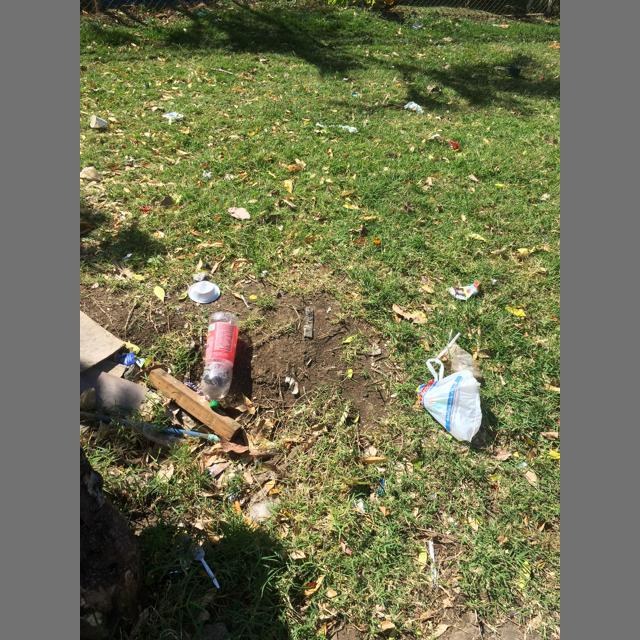litter: (416, 358, 482, 442), (200, 312, 240, 408), (451, 346, 482, 380), (195, 546, 220, 588), (250, 494, 281, 523), (188, 281, 220, 303), (436, 332, 461, 358), (447, 282, 480, 300), (184, 381, 209, 402), (206, 458, 232, 478), (429, 528, 437, 588), (315, 123, 359, 133), (80, 166, 102, 181), (116, 352, 135, 365), (90, 115, 107, 129), (404, 102, 424, 113), (354, 496, 365, 512), (161, 112, 184, 119), (378, 478, 386, 497), (193, 272, 209, 281), (135, 358, 147, 368), (210, 402, 220, 408), (123, 254, 132, 260), (352, 94, 357, 96)
